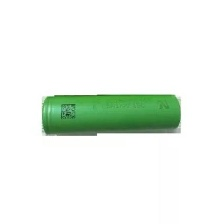battery: (35, 90, 187, 141)
